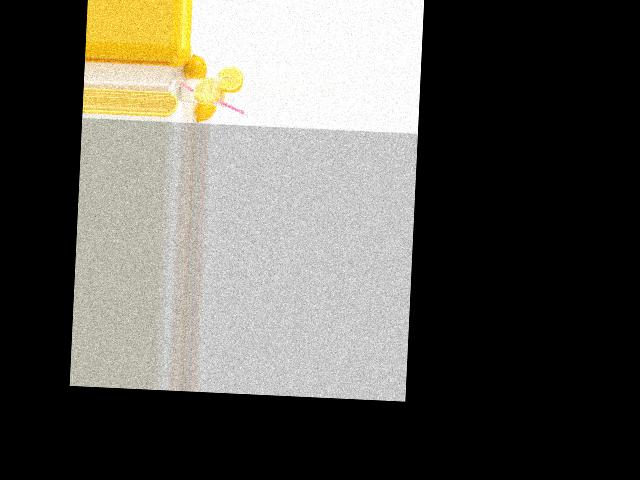lemon: (191, 97, 217, 122)
